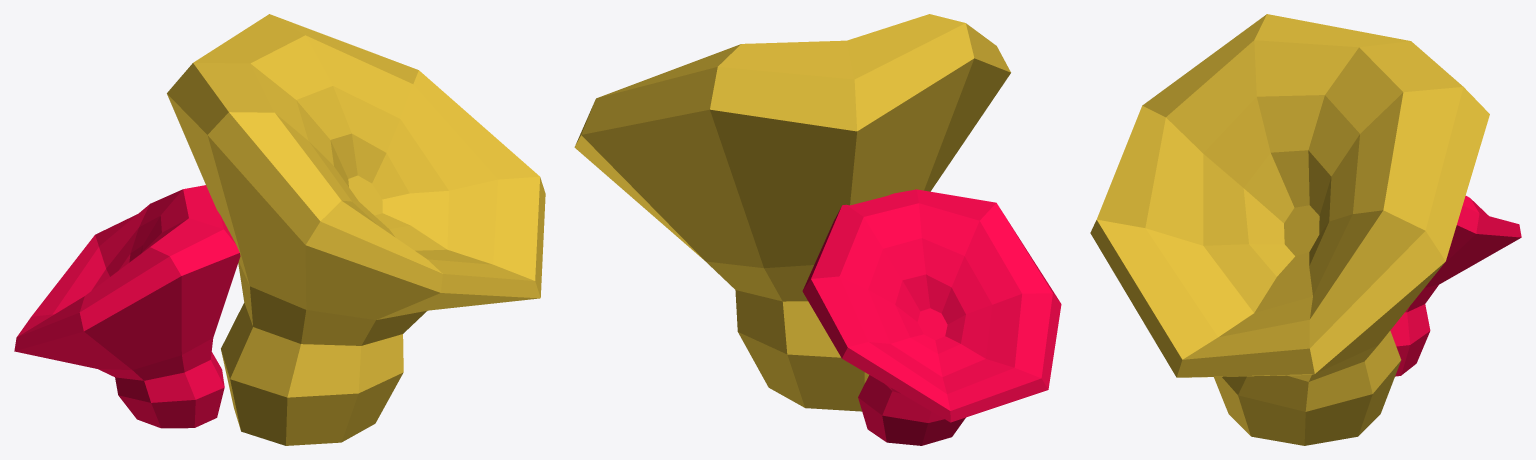
File: propFlowerB.fbx
The picture shows the model from 3 angles, left to right: view 1: azimuth 30°, elevation 25°; view 2: azimuth 150°, elevation 25°; view 3: azimuth 270°, elevation 25°; orthographic projection. The views are drawn at different scales.
Visible parts, largest first — view 1: FlowerB; view 2: FlowerB; view 3: FlowerB.
Boxes of the visible parts, x1,y1,x2,y2 form: FlowerB: (14,14,545,445); FlowerB: (574,14,1061,445); FlowerB: (1090,14,1521,445).
Bounding box in the file's own units: 353 × 237 × 262.
